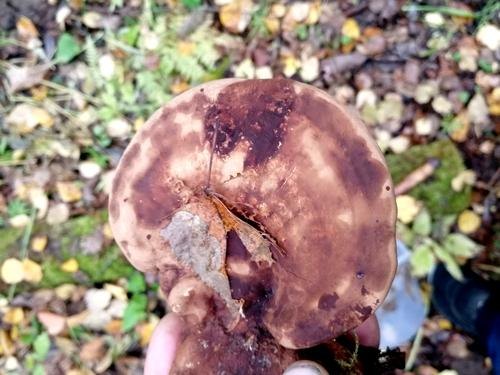Ganoderma - Fruit Body: (109, 73, 394, 346)
